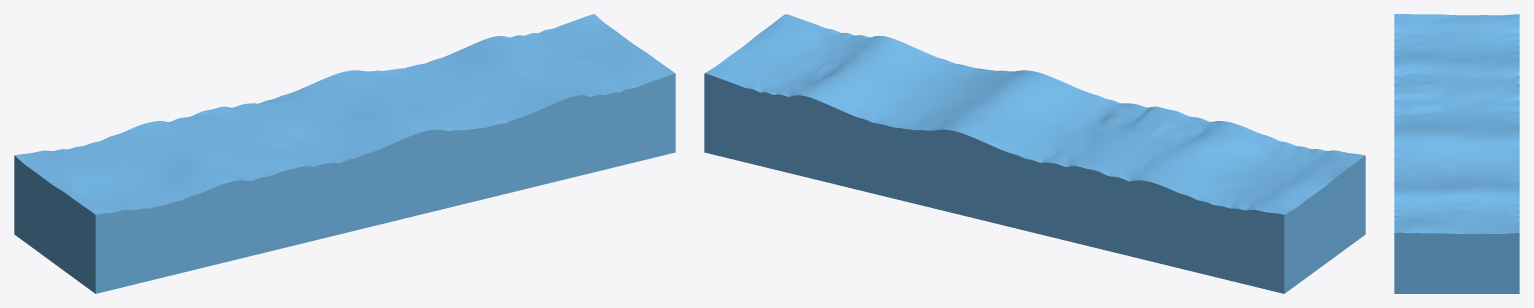
The picture shows the model from 3 angles, left to right: view 1: azimuth 30°, elevation 25°; view 2: azimuth 150°, elevation 25°; view 3: azimuth 270°, elevation 25°; orthographic projection. The views are drawn at different scales.
Visible parts, largest first — view 1: frame0000; view 2: frame0000; view 3: frame0000.
Part boxes in pixels (<box>): frame0000: <box>14,14,675,293</box>; frame0000: <box>704,14,1365,293</box>; frame0000: <box>1394,14,1519,293</box>.
Size of what is drawn, in the model's own units: 0.2 by 0.0273 by 0.0485.
